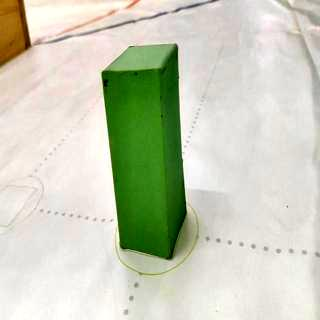greenbox: (102, 42, 185, 260)
